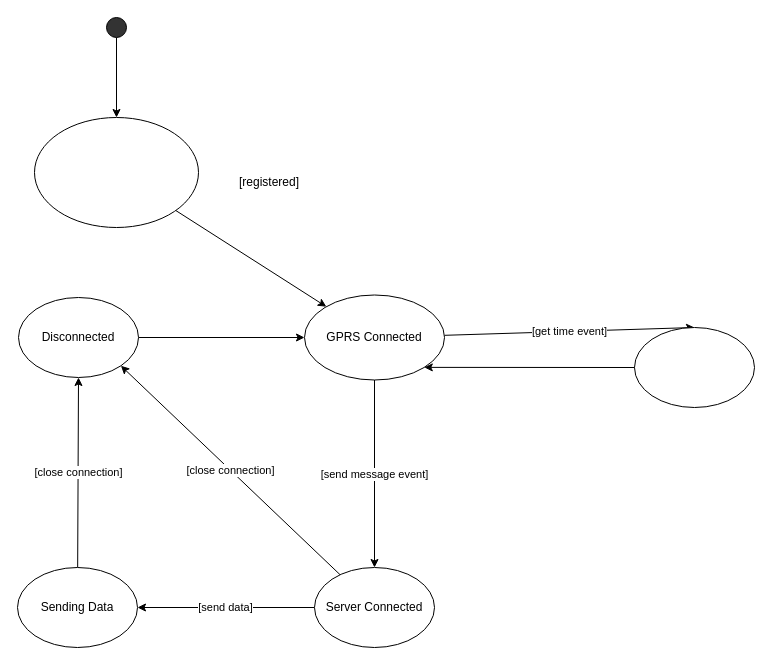
Some shapes in this 772 by 665 pixel diagram are drawn without their labels. Each missing label, with the centre of its shape:
Get Time: [694,367]
Initialize ---- enable hardware check uart check SIM Card set APN: [116,172]
